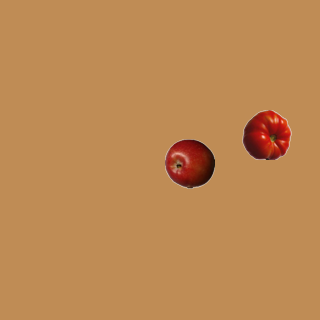Apple Braeburn: (164, 138, 214, 188)
Tomato 3: (241, 109, 291, 159)
